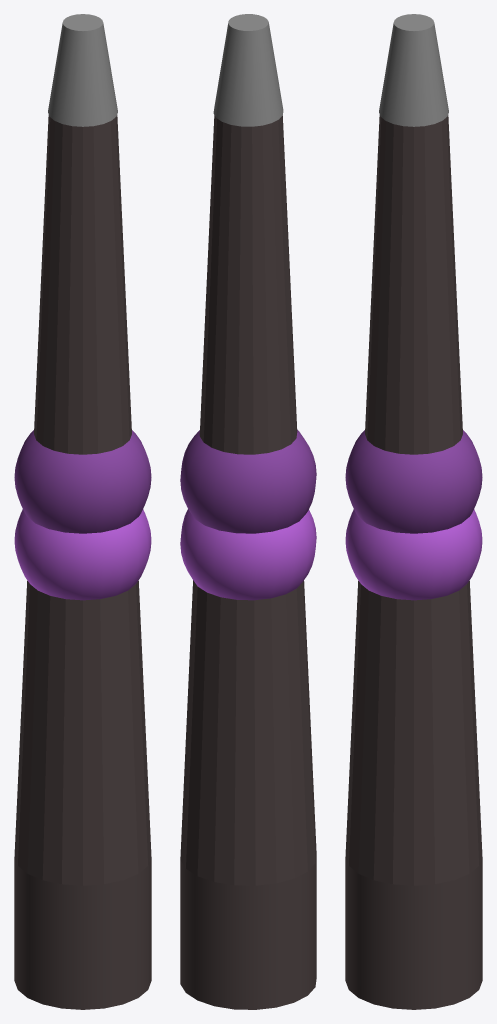
File: pole.fbx
3 views of the same model, side by side, from view 1: azimuth 90°, elevation 25°; view 2: azimuth 150°, elevation 25°; view 3: azimuth 270°, elevation 25° (orthographic).
Visible parts, largest first — view 1: pCylinder1, pSphere1, pSphere2, pCylinder2; view 2: pCylinder1, pSphere1, pSphere2, pCylinder2; view 3: pCylinder1, pSphere1, pSphere2, pCylinder2.
Boxes of the visible parts, x1,y1,x2,y2 form: pCylinder1: [14, 115, 151, 1009]; pSphere1: [14, 430, 151, 533]; pSphere2: [14, 509, 151, 600]; pCylinder2: [48, 14, 117, 126]; pCylinder1: [180, 115, 316, 1009]; pSphere1: [180, 430, 316, 533]; pSphere2: [180, 509, 316, 600]; pCylinder2: [213, 14, 283, 126]; pCylinder1: [345, 115, 482, 1009]; pSphere1: [345, 430, 482, 533]; pSphere2: [345, 509, 482, 600]; pCylinder2: [379, 14, 448, 126].
Size of the model in its own units: 2 by 15.44 by 2.
